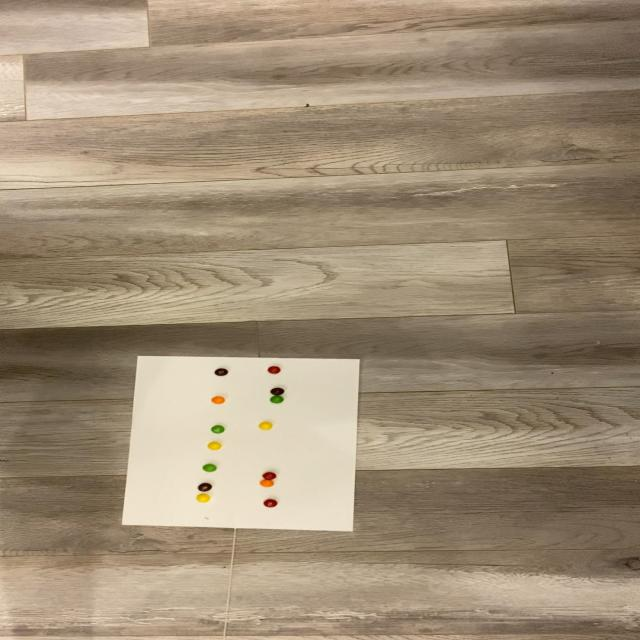smartie: (258, 421, 274, 431), (207, 441, 223, 451), (270, 386, 285, 396), (202, 463, 217, 473), (197, 482, 212, 492), (214, 368, 229, 377), (268, 396, 283, 405), (259, 479, 274, 488), (263, 499, 278, 508), (267, 366, 281, 375), (211, 425, 225, 434), (197, 494, 211, 503), (211, 396, 226, 404), (262, 472, 276, 480)
